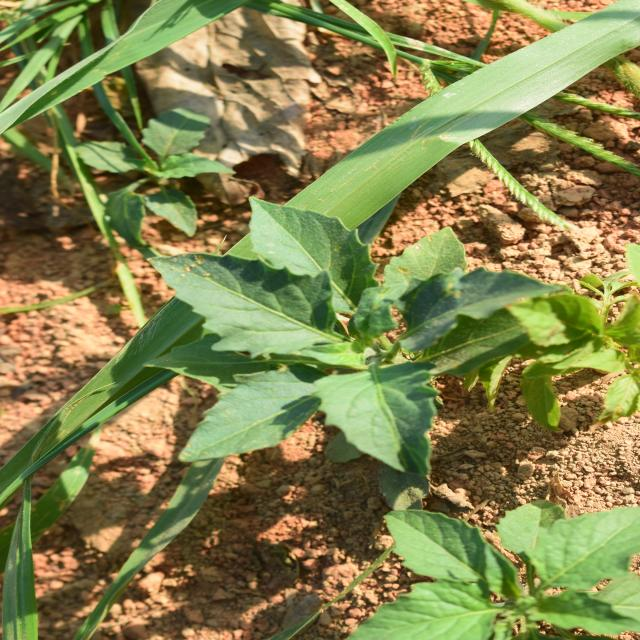Black_nightshade: (169, 153, 425, 497), (0, 382, 153, 632)
